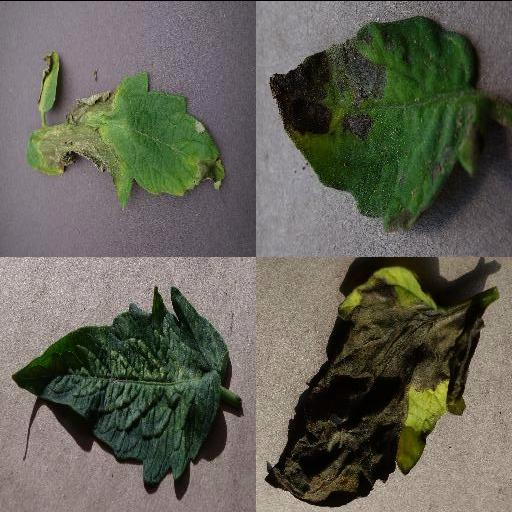Early Blight: (269, 14, 487, 230)
Late Blight: (268, 267, 486, 507), (25, 71, 227, 215), (34, 50, 66, 114)
Spider Mites: (10, 286, 232, 482)
